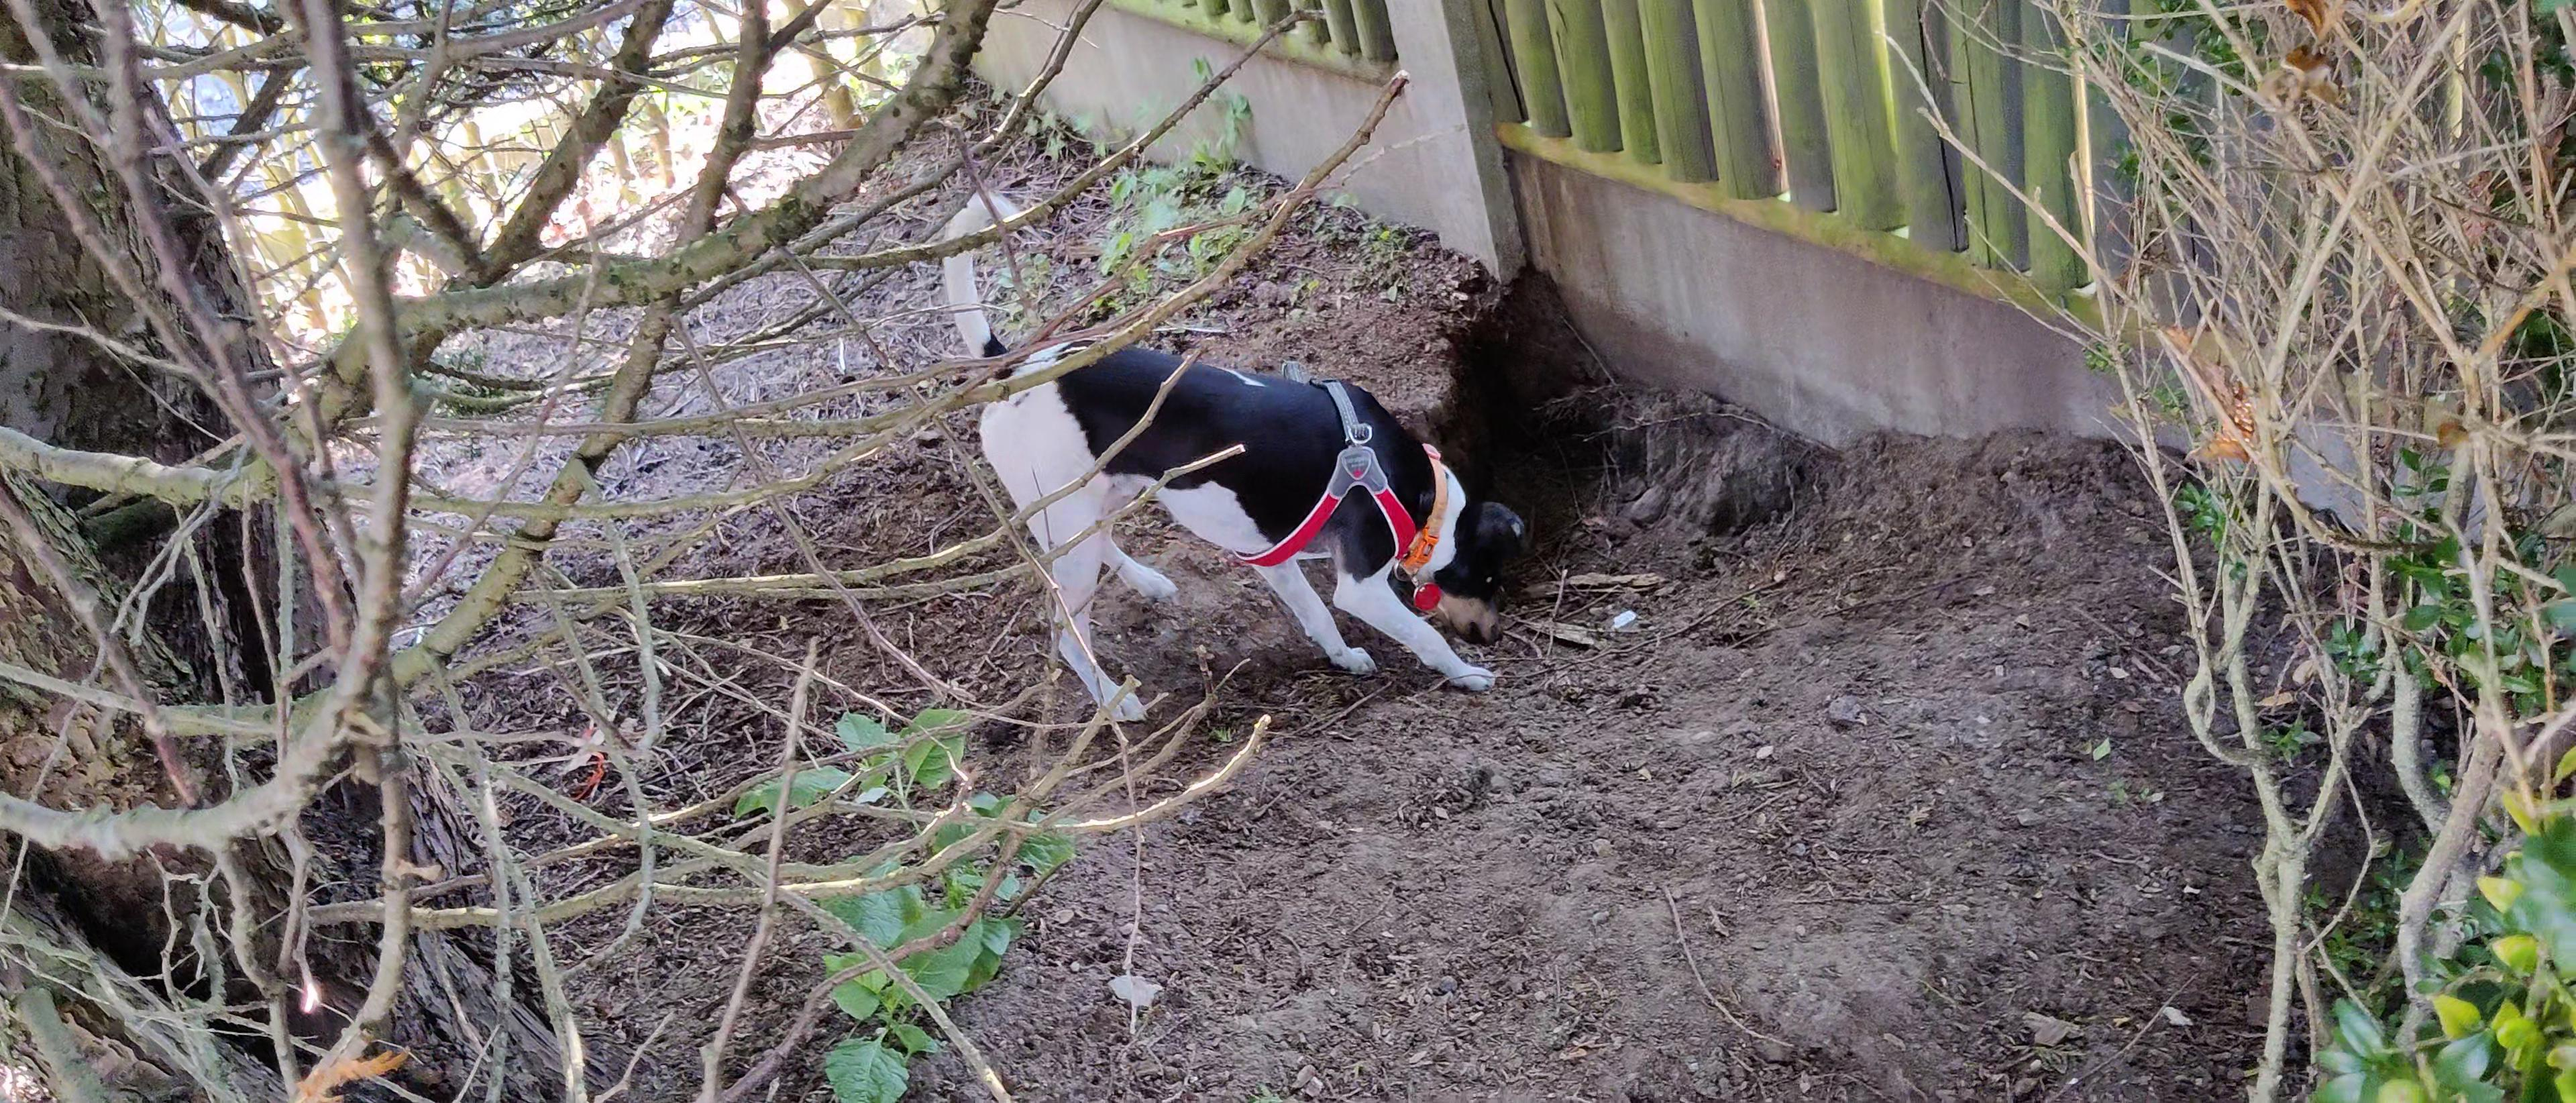Dog: (925, 178, 1548, 738)
